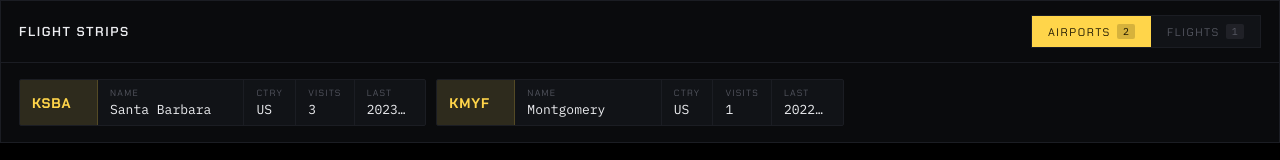
Test case: StripBay › toggles to flights view
The width and height of the screenshot is (1280, 160).
What coordinates should you click on to do the following:
click the tab "Flights 1"
I would click on:
 (1206, 32)
Its box is x1=1151 y1=16 x2=1260 y2=47.
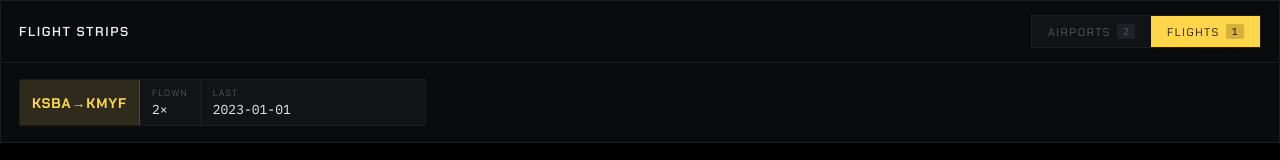
Now the text "KSBA→KMYF" is shown, box x1=20 y1=80 x2=140 y2=125
